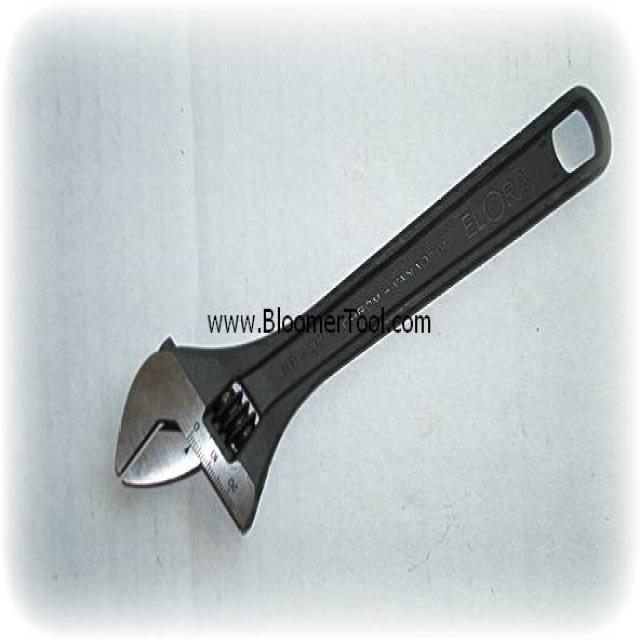wrench: (70, 81, 640, 547)
